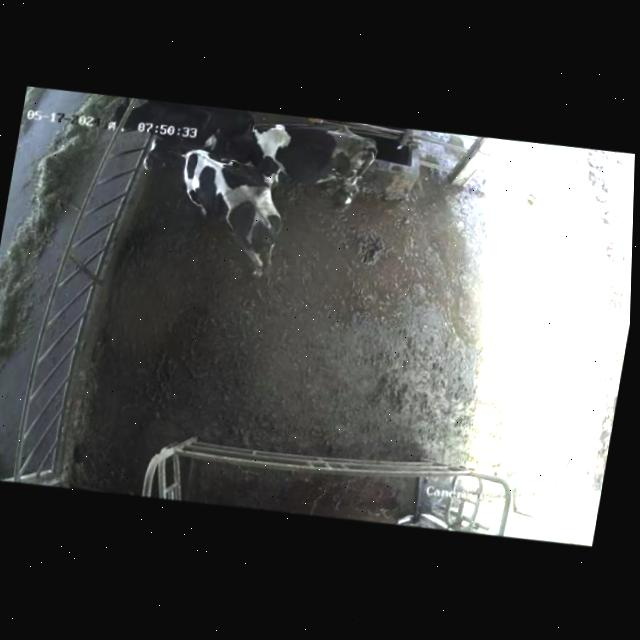eat: (88, 91, 180, 146)
stand: (118, 128, 304, 292), (201, 109, 379, 211)
